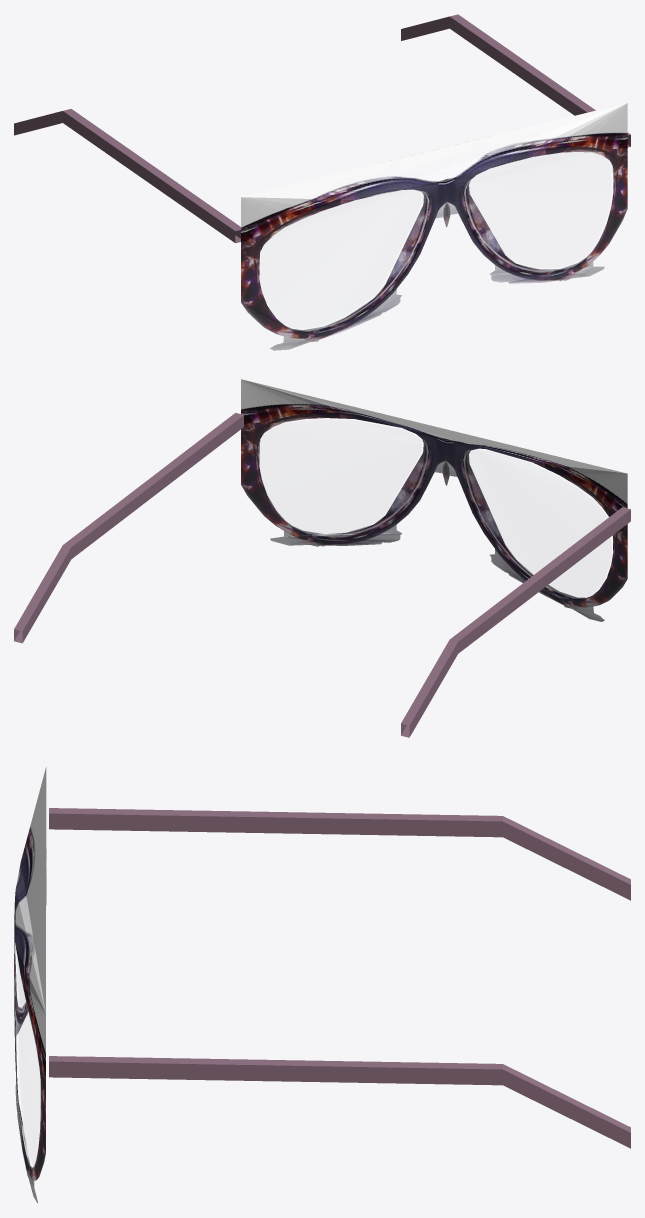
File: gothamstyle-248_demi-brown.glb
3 views of the same model, one above another, from view 1: azimuth 30°, elevation 25°; view 2: azimuth 150°, elevation 25°; view 3: azimuth 270°, elevation 25° (orthographic). The views are drawn at different scales.
Visible parts, largest first — view 1: frame_front, temple_viewer_left, temple_viewer_right; view 2: frame_front, temple_viewer_right, temple_viewer_left; view 3: temple_viewer_left, temple_viewer_right, frame_front.
Part boxes in pixels (x1,y1,x2,y2): frame_front: (241,103,627,350); temple_viewer_left: (14,109,240,243); temple_viewer_right: (401,14,630,147); frame_front: (241,379,627,621); temple_viewer_right: (14,413,243,643); temple_viewer_left: (401,507,630,737); temple_viewer_left: (49,808,630,900); temple_viewer_right: (49,1056,630,1148); frame_front: (14,767,46,1203).
Bounding box in the file's own units: 0.1371 × 0.0528 × 0.141.
3 materials, 2 textured.
